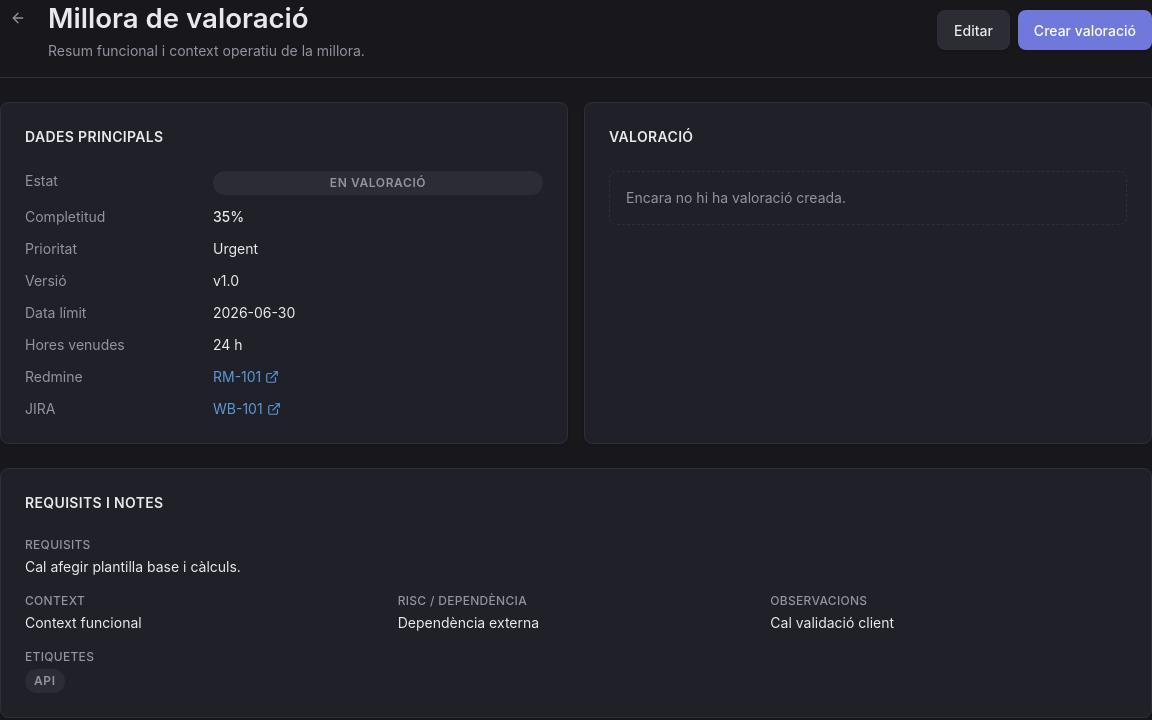
Scenario: ImprovementViewPage › hides inactive templates from the create flow
This screenshot has width=1152, height=720.
Click the button "Crear valoració". click: (1085, 30)
box: [1018,10,1151,50]
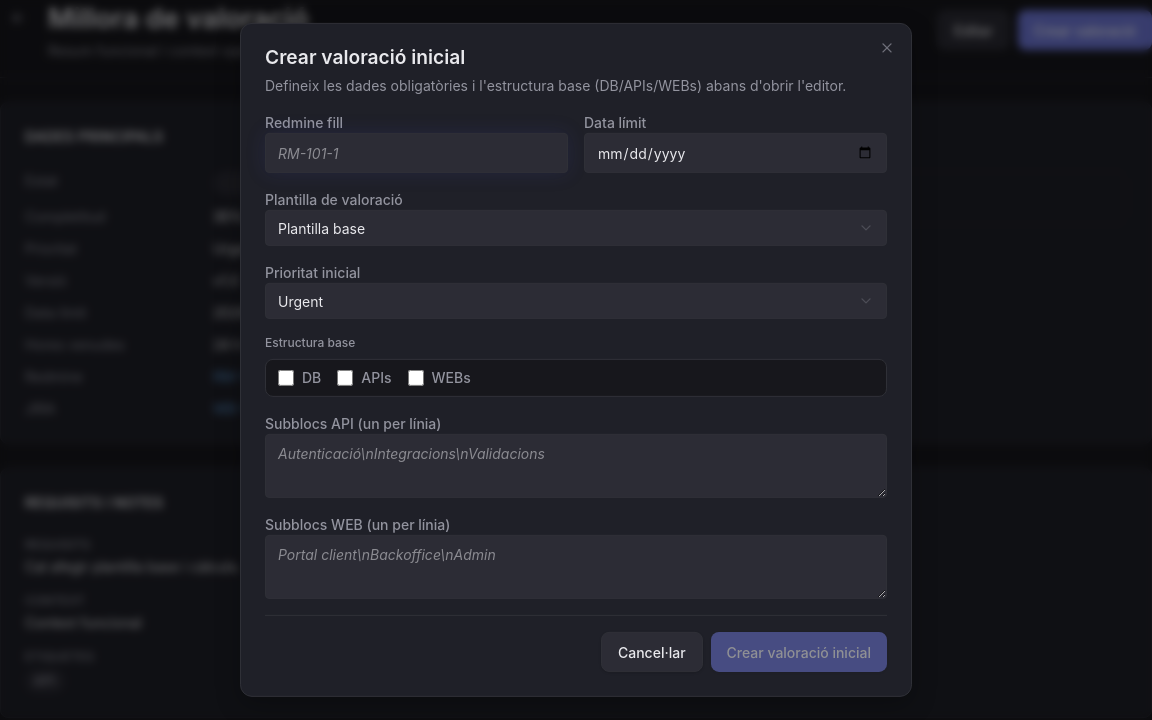
Click the dropdown named "plantilla de valoració". click: (322, 228)
box: [265,210,887,246]
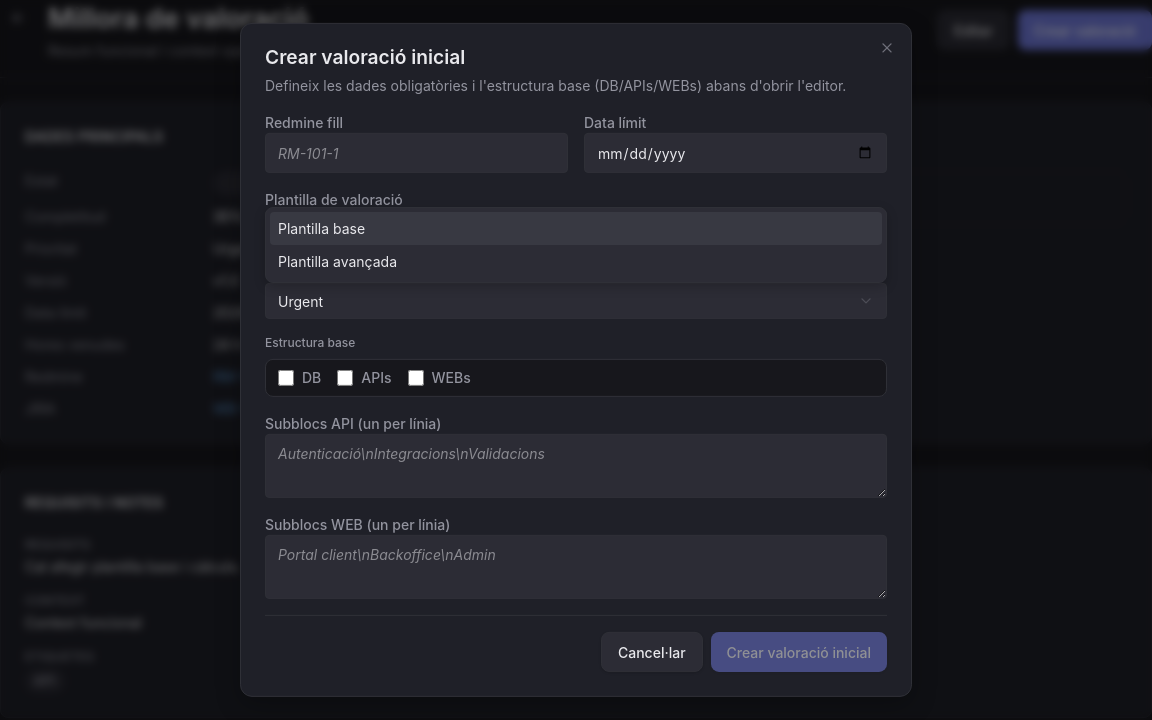
Expected: the option "Plantilla base" is shown, [270,212,882,245]
Result: the option "Plantilla avançada" is shown at [278,253,397,270]
